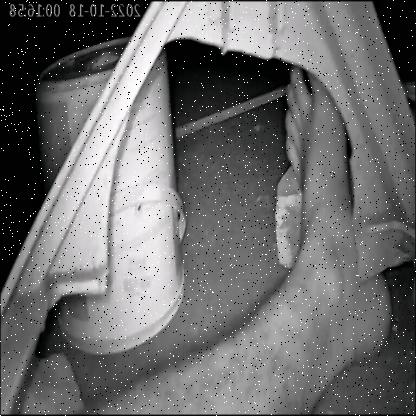leg: (118, 64, 406, 406)
